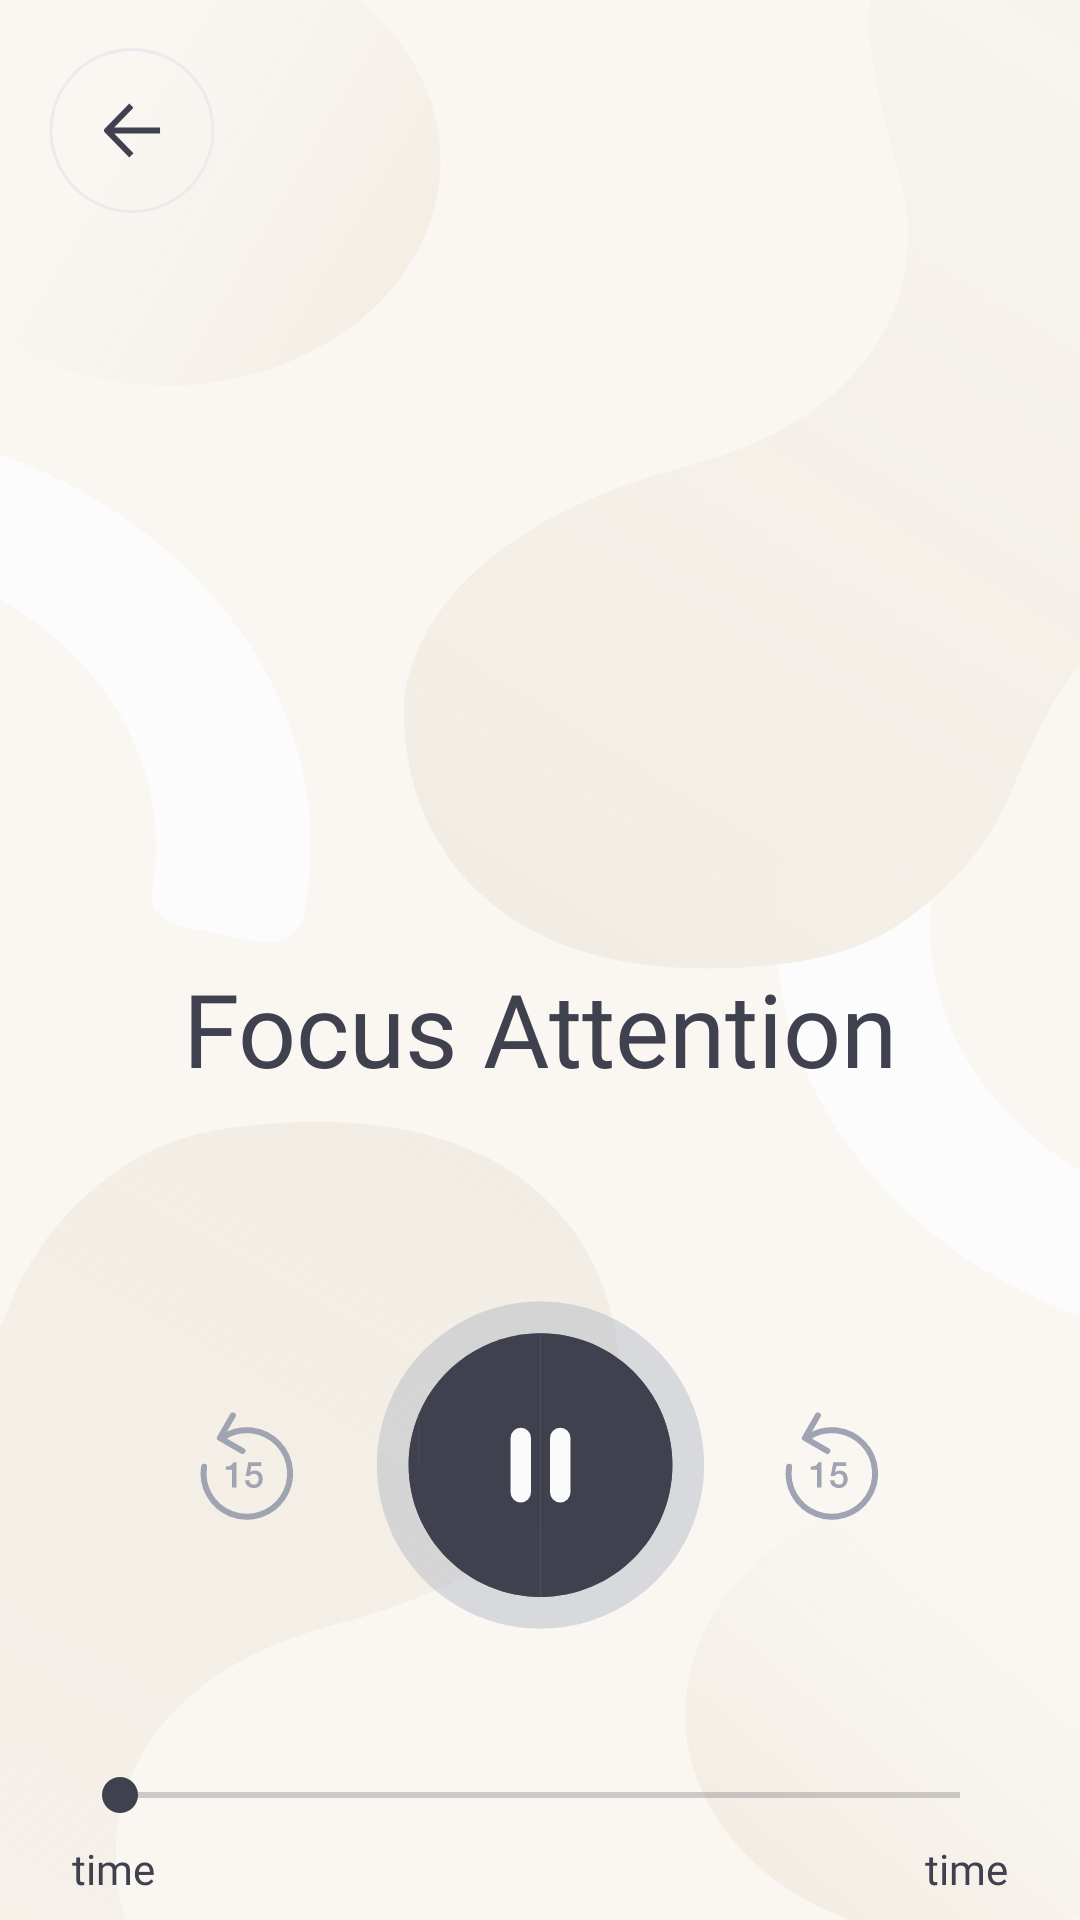

Where to tap for icons on this 1080px x 1920px app screen, as (x=x, y=y):
back: (x=132, y=130)
sec back: (x=246, y=1466), (x=831, y=1466)
